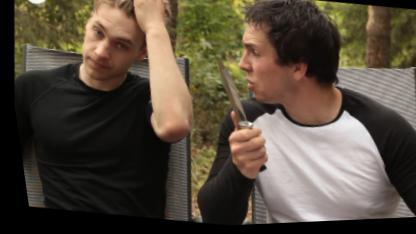knife: (190, 46, 284, 180)
